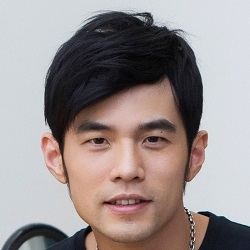unmask: (56, 66, 189, 242)
